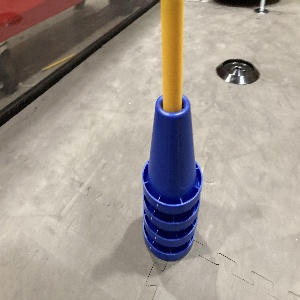Blue_4: (139, 95, 202, 259)
